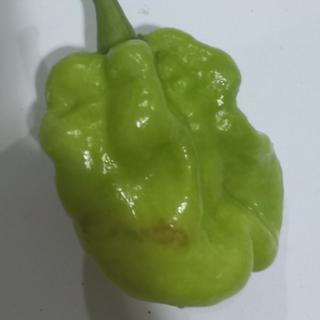Grade-A: (32, 23, 286, 309)
